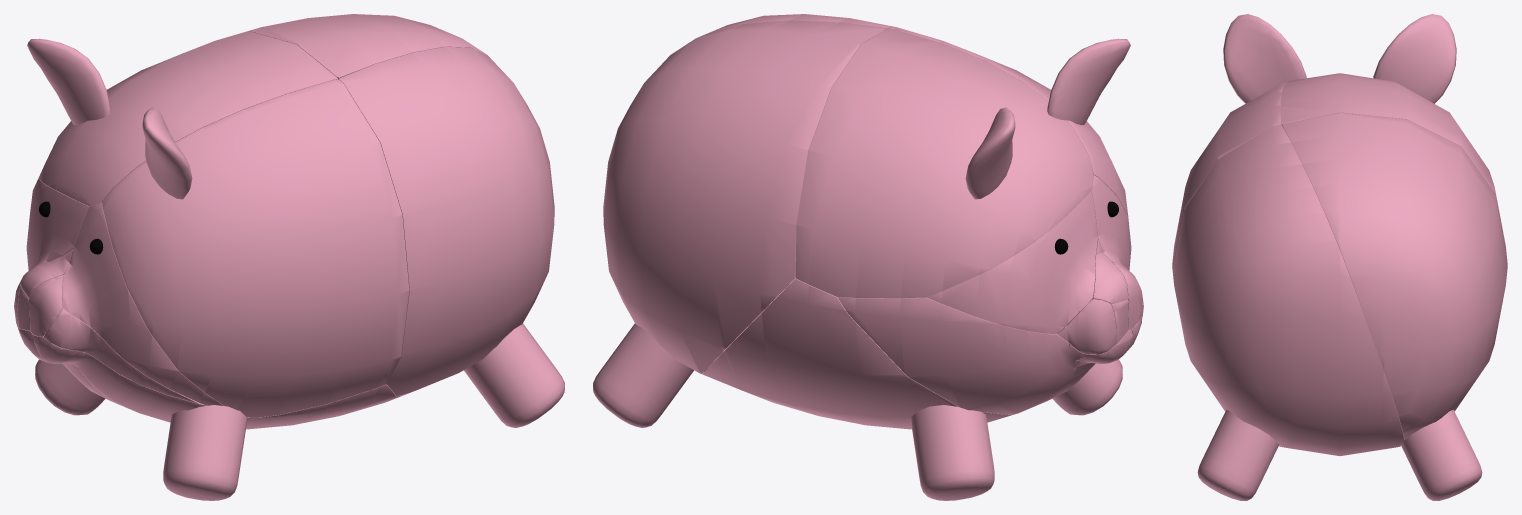
Rendered from piggy bank fractured.fbx.
3 views of the same model, side by side, from view 1: azimuth 30°, elevation 25°; view 2: azimuth 150°, elevation 25°; view 3: azimuth 270°, elevation 25° (orthographic). The views are drawn at different scales.
Parts seen in each view (by area): view 1: Cube_cell.011, Cube_cell.001, Cube_cell.014, Cube_cell.006, Cube_cell.004, Cube.004, Cube.006, Cube.007, Cube_cell.002, Cube_cell.007, Cube_cell.005, Cube.002 (+5 smaller); view 2: Cube_cell.004, Cube_cell.014, Cube_cell.012, Cube_cell.013, Cube_cell.007, Cube.003, Cube.005, Cube.002, Cube.007, Cube_cell.011, Cube_cell.006, Cube_cell.003 (+5 smaller); view 3: Cube_cell.001, Cube_cell.004, Cube_cell.014, Cube.002, Cube.007, Cube.005, Cube.006, Cube_cell.011.
Boxes of the visible parts, left/top/right/bottom form: Cube_cell.011: left=102, top=79, right=409, bottom=417; Cube_cell.001: left=338, top=46, right=554, bottom=396; Cube_cell.014: left=38, top=31, right=337, bottom=206; Cube_cell.006: left=62, top=202, right=223, bottom=405; Cube_cell.004: left=249, top=14, right=488, bottom=78; Cube.004: left=163, top=405, right=247, bottom=500; Cube.006: left=464, top=323, right=564, bottom=427; Cube.007: left=27, top=38, right=110, bottom=125; Cube_cell.002: left=33, top=333, right=206, bottom=421; Cube_cell.007: left=26, top=178, right=89, bottom=269; Cube_cell.005: left=44, top=308, right=202, bottom=404; Cube.002: left=142, top=107, right=192, bottom=199; Cube_cell.004: left=603, top=20, right=886, bottom=373; Cube_cell.014: left=795, top=28, right=1093, bottom=298; Cube_cell.012: left=702, top=278, right=1011, bottom=429; Cube_cell.013: left=838, top=297, right=1081, bottom=414; Cube_cell.007: left=927, top=190, right=1097, bottom=334; Cube.003: left=910, top=405, right=994, bottom=500; Cube.005: left=593, top=323, right=693, bottom=427; Cube.002: left=1047, top=38, right=1130, bottom=125; Cube.007: left=965, top=107, right=1015, bottom=199; Cube_cell.011: left=889, top=26, right=1128, bottom=216; Cube_cell.006: left=1091, top=175, right=1131, bottom=271; Cube_cell.003: left=1058, top=299, right=1116, bottom=354; Cube_cell.001: left=1172, top=124, right=1404, bottom=455; Cube_cell.004: left=1282, top=112, right=1507, bottom=440; Cube_cell.014: left=1280, top=73, right=1502, bottom=232; Cube.002: left=1223, top=14, right=1306, bottom=103; Cube.007: left=1373, top=14, right=1456, bottom=103; Cube.005: left=1400, top=410, right=1482, bottom=500; Cube.006: left=1197, top=410, right=1279, bottom=500; Cube_cell.011: left=1172, top=81, right=1288, bottom=269.
Size of the model in its own units: 261 by 198 by 181.
